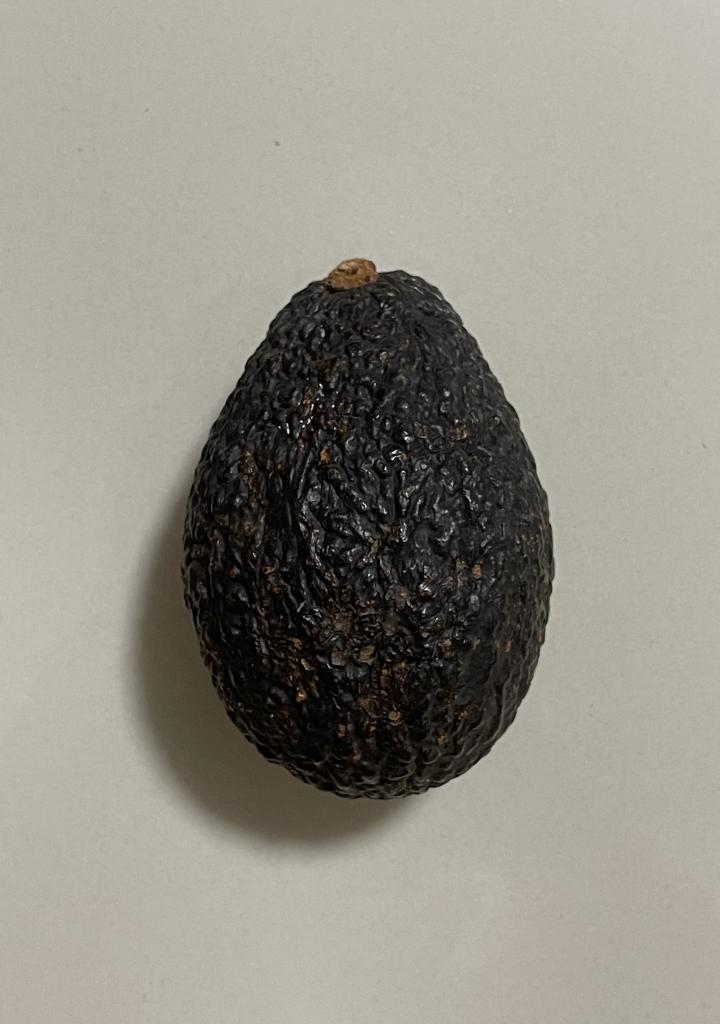Level2: (169, 251, 560, 806)
